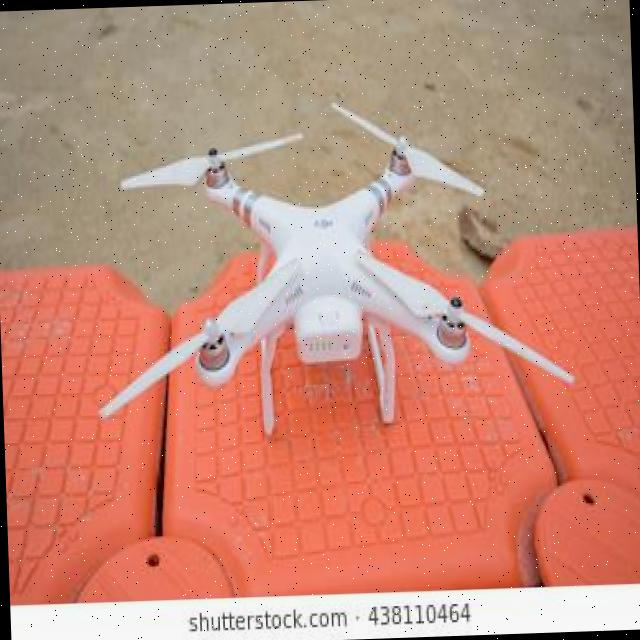drone: (61, 62, 608, 480)
